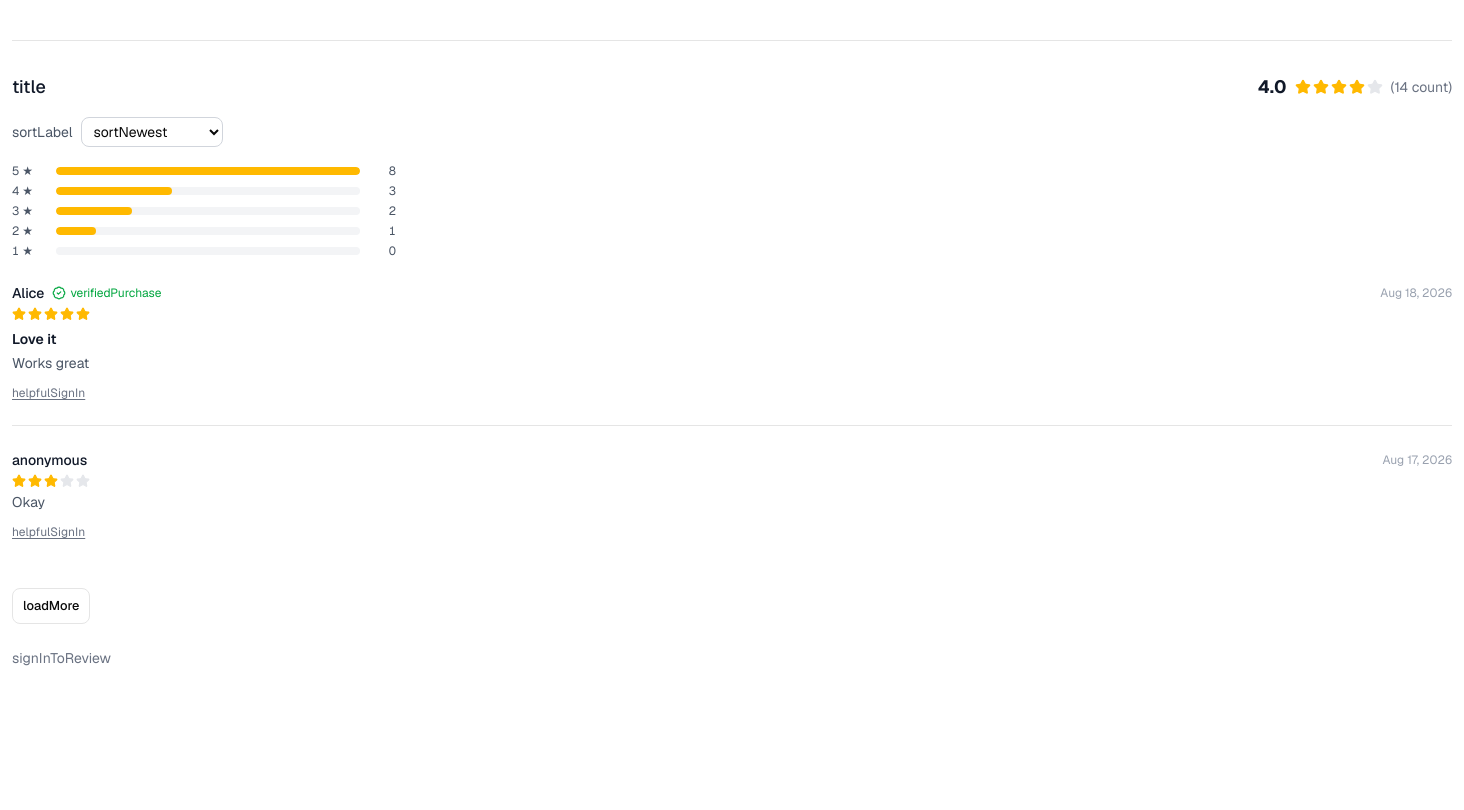
Test case: ProductReviews — F-1 › keeps the loaded reviews and stays retryable when a page fails
Click the button "loadMore". click: (51, 606)
box: [12,588,90,624]
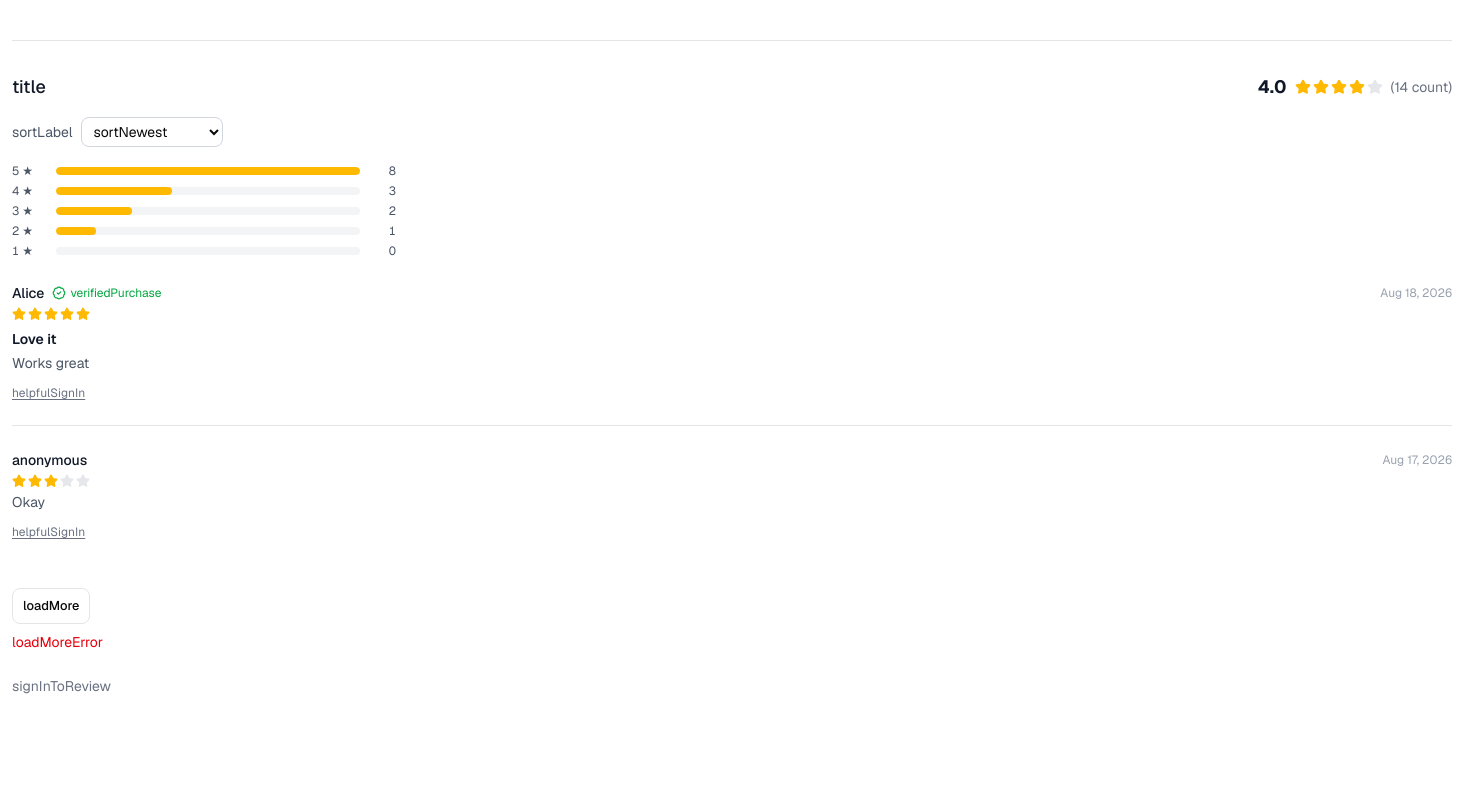
Expected: the text "Alice" is shown, [12,283,44,303]
Expected: the text "loadMoreError" is shown, [12,633,103,651]
